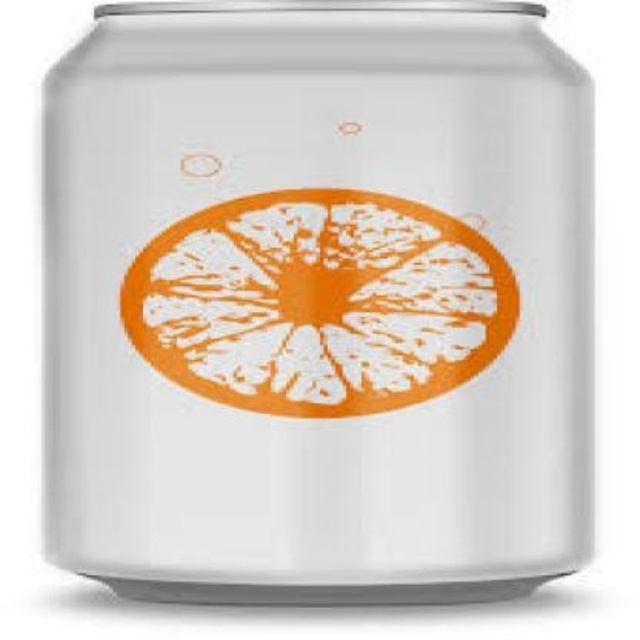trash: (45, 0, 591, 602)
